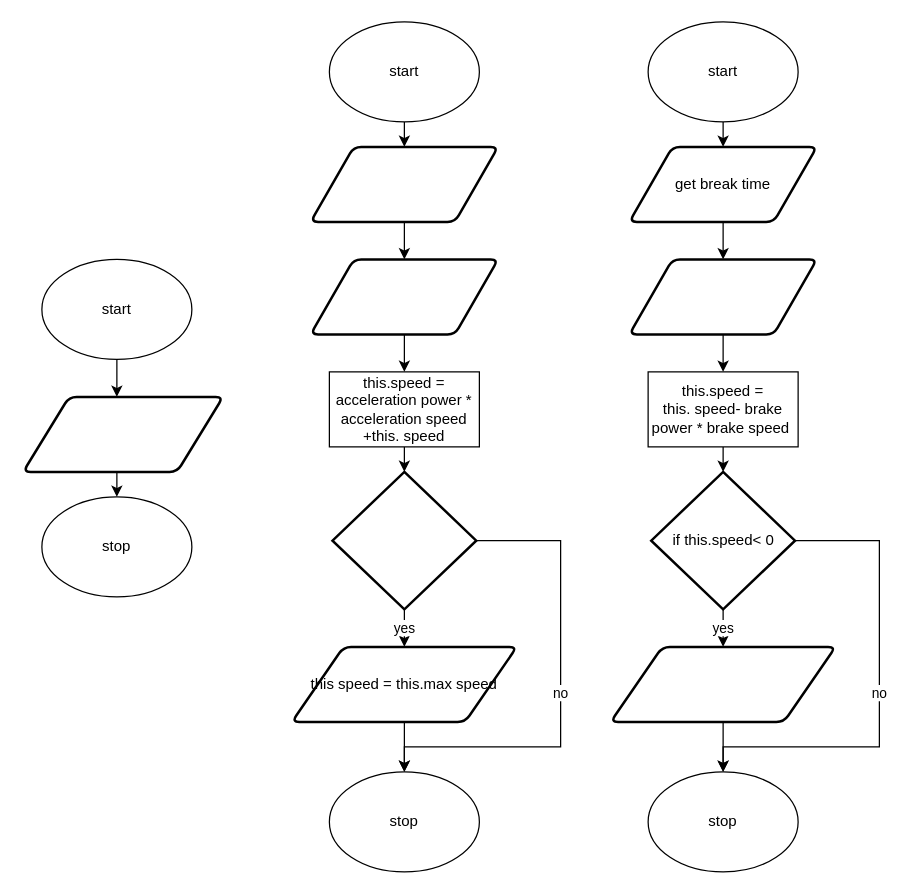
The diagram is 911 pixels wide and 894 high, and some of its shapes have lost their labels. The shapes that lost their labels are listed below. From the top down, each one's centre as x and y in pixels, then its label:
At [404,183]: "get acceleration power".
At [404,296]: "get acceleration time".
At [723,296]: "get brake power".
At [122,433]: "show max speed, speed color licence plate and door number".
At [404,540]: "if this.speed > this maxSpeed".
At [722,683]: "this.speed= 0".
